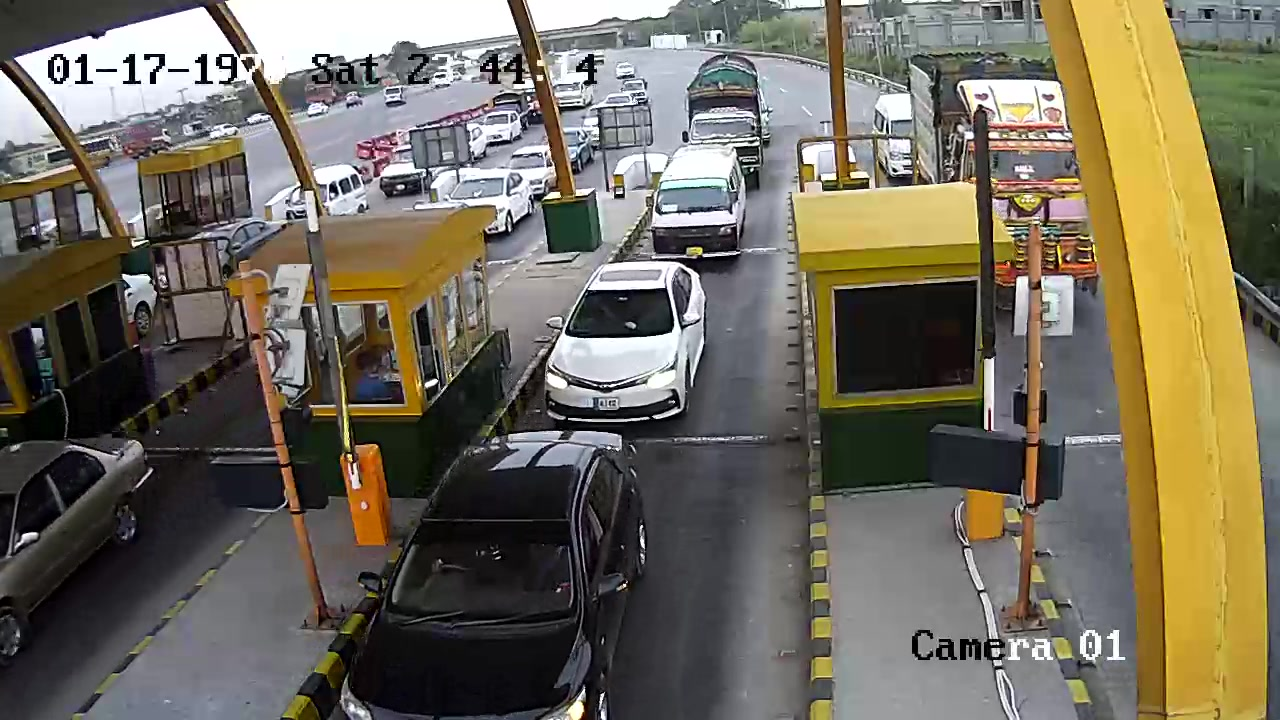F1: (533, 258, 717, 435)
